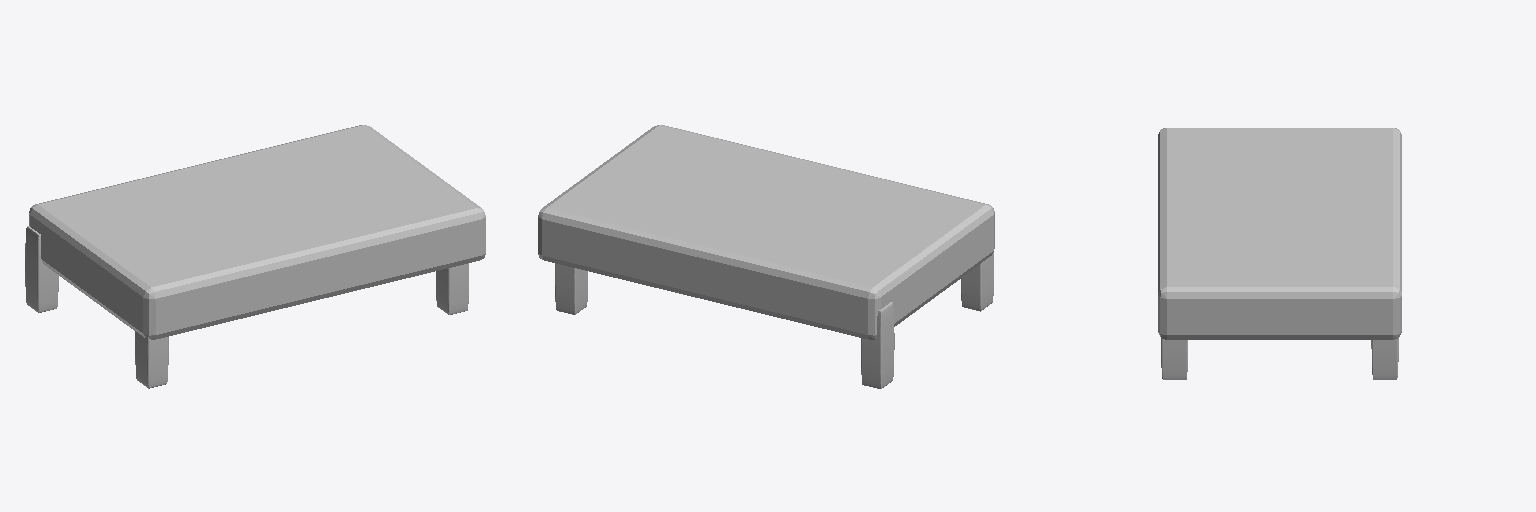
Rendered from bed.obj.
The picture shows the model from 3 angles: view 1: azimuth 30°, elevation 25°; view 2: azimuth 150°, elevation 25°; view 3: azimuth 270°, elevation 25°; orthographic projection.
Parts seen in each view (by area): view 1: bed, bed-leg.002, bed-leg, bed-leg.003; view 2: bed, bed-leg.002, bed-leg.001, bed-leg; view 3: bed, bed-leg.001, bed-leg.003.
Part boxes in pixels (left/top/right/bottom): bed: left=29, top=125, right=485, bottom=339; bed-leg.002: left=25, top=226, right=58, bottom=312; bed-leg: left=135, top=331, right=168, bottom=388; bed-leg.003: left=436, top=263, right=468, bottom=314; bed: left=538, top=125, right=994, bottom=339; bed-leg.002: left=861, top=302, right=894, bottom=388; bed-leg.001: left=555, top=263, right=587, bottom=314; bed-leg: left=961, top=252, right=993, bottom=311; bed: left=1158, top=128, right=1401, bottom=339; bed-leg.001: left=1371, top=338, right=1398, bottom=379; bed-leg.003: left=1161, top=338, right=1187, bottom=379.
Bounding box in the file's own units: 1.33 × 0.3649 × 0.8194.